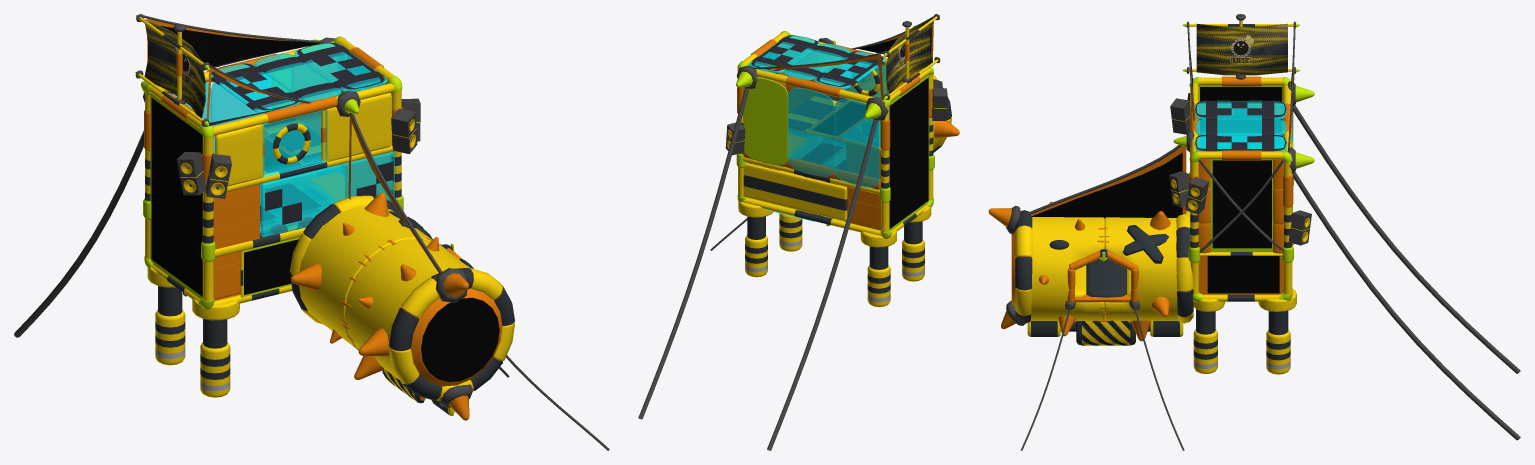
The model's file is Eridon_Block.fbx.
3 renders of one model, left to right at view 1: azimuth 30°, elevation 25°; view 2: azimuth 150°, elevation 25°; view 3: azimuth 270°, elevation 25°, orthographic. The views are drawn at different scales.
Parts seen in each view (by area): view 1: pCylinder29, Floor__29_, Floor__25__3, pCylinder30, Floor__25__1, pTorus13, pCylinder24, pCylinder49, Floor__21__12, Floor__29_1, pPlane12, polySurface3032 (+24 smaller); view 2: pCube164, Floor__29_, Floor__21__5, pCylinder24, pCylinder49, pCylinder23, Floor__21__7, Floor__29_1, pCylinder22, pCylinder21, polySurface3032, polySurface3030 (+21 smaller); view 3: pCylinder29, pPlane7, pPlane4, Floor__29_1, pCylinder44, pPlane5, pCylinder23, pCylinder72, Floor__29_, pCube162, pCylinder22, pCylinder21 (+15 smaller).
Part boxes in pixels (box(x1,y1,x2,y2)): pCylinder29: box(299, 205, 470, 384); Floor__29_: box(150, 93, 202, 298); Floor__25__3: box(215, 93, 391, 186); pCylinder30: box(410, 288, 502, 386); Floor__25__1: box(260, 151, 394, 237); pTorus13: box(389, 268, 514, 400); pCylinder24: box(155, 286, 230, 397); pCylinder49: box(143, 83, 215, 309); Floor__21__12: box(213, 184, 259, 299); Floor__29_1: box(144, 19, 205, 118); pPlane12: box(147, 18, 319, 83); polySurface3032: box(294, 42, 387, 91); pCube164: box(743, 77, 879, 187); Floor__29_: box(889, 74, 929, 230); Floor__21__5: box(743, 163, 847, 221); pCylinder24: box(867, 221, 924, 307); pCylinder49: box(879, 67, 934, 238); pCylinder23: box(745, 213, 802, 277); Floor__21__7: box(846, 143, 880, 230); Floor__29_1: box(886, 18, 932, 93); pCylinder22: box(767, 119, 877, 450); pCylinder21: box(638, 88, 748, 419); polySurface3032: box(749, 35, 820, 72); polySurface3030: box(814, 51, 885, 88); pCylinder29: box(1030, 217, 1178, 320); pPlane7: box(1210, 159, 1273, 251); pPlane4: box(1031, 146, 1186, 218); Floor__29_1: box(1196, 23, 1287, 75); pCylinder44: box(1188, 150, 1293, 302); pPlane5: box(1199, 256, 1283, 294); pCylinder23: box(1193, 309, 1290, 374); pCylinder72: box(1027, 321, 1183, 345); Floor__29_: box(1199, 85, 1282, 133); pCube162: box(1069, 259, 1131, 302); pCylinder22: box(1292, 105, 1520, 373); pCylinder21: box(1293, 171, 1520, 440).
Bounding box in the file's own units: 2418 × 3152 × 4287.
